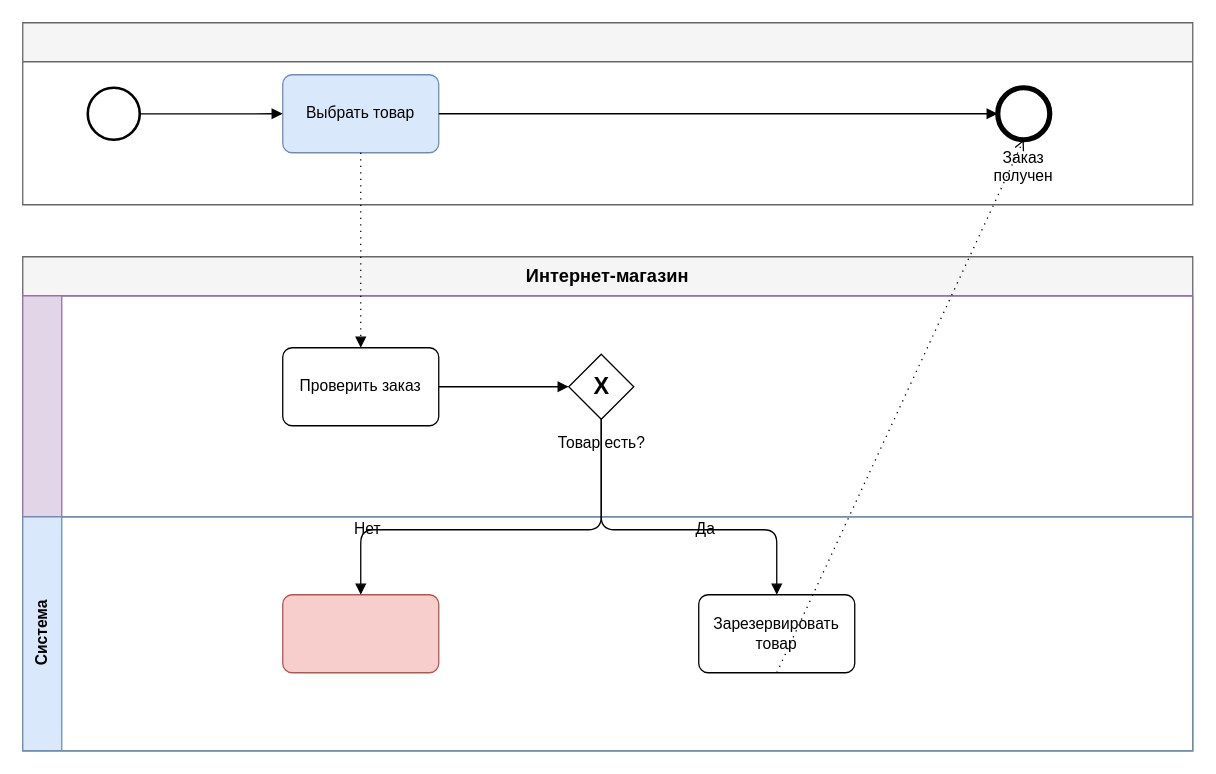
This 1216x774 diagram has some shape labels left out. Here are the shapes that lost their labels. From the top down, the box of each, then its label:
(86, 86, 140, 140): Заказ создан
(21, 21, 1193, 205): Клиент
(21, 294, 1193, 517): Оператор
(281, 593, 439, 673): Отменить заказ
